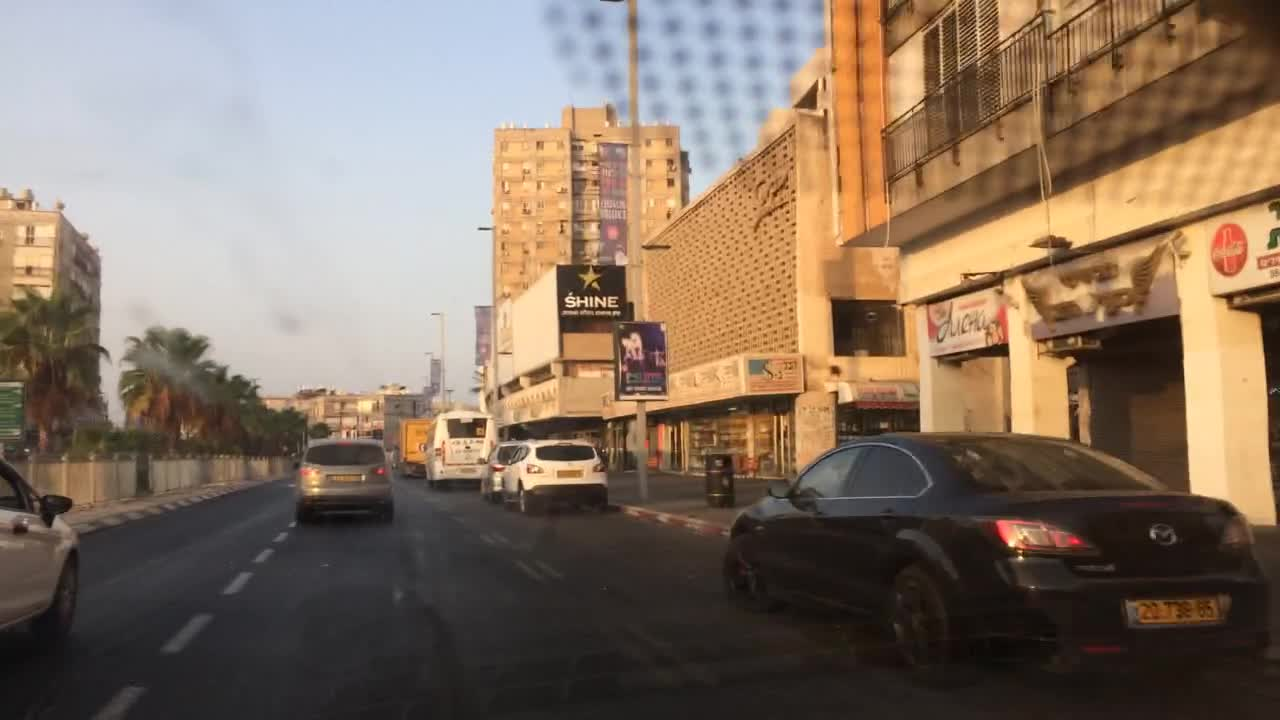bus: (423, 411, 493, 483)
car: (721, 429, 1270, 683), (0, 454, 85, 646), (292, 434, 394, 512), (503, 439, 609, 512), (478, 442, 521, 499)
truck: (392, 420, 429, 477)
